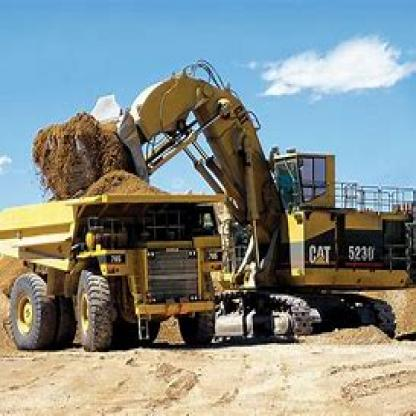dump_truck: (5, 181, 239, 366)
